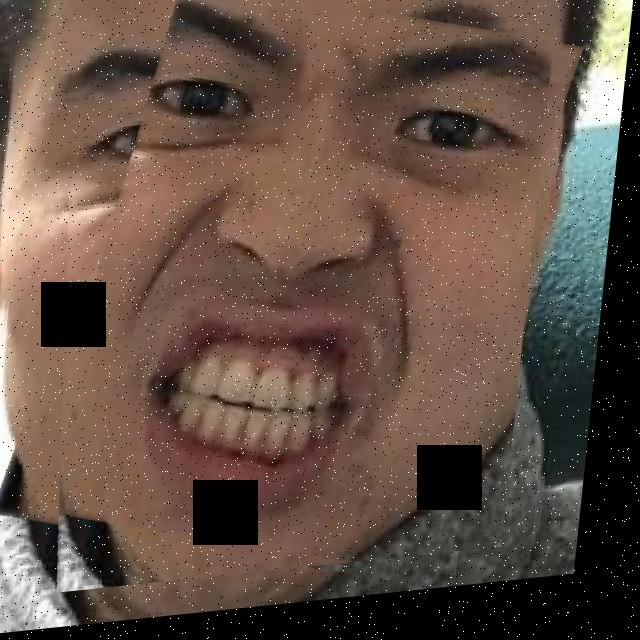anger: (27, 0, 562, 599)
